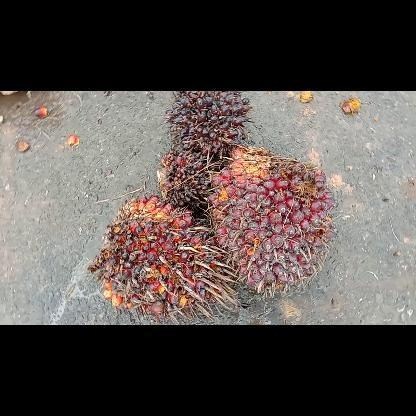TBS abnormal: (161, 90, 255, 158), (154, 141, 216, 211)
TBS masak: (207, 144, 337, 298), (88, 194, 242, 322)
